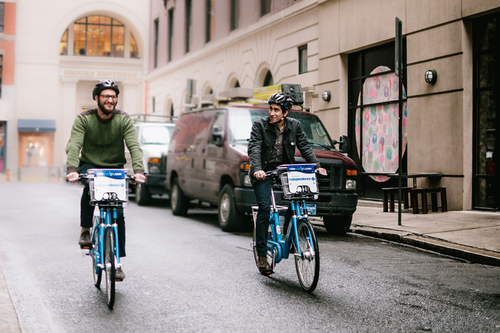bikerider: (62, 73, 148, 320), (240, 92, 330, 304)
